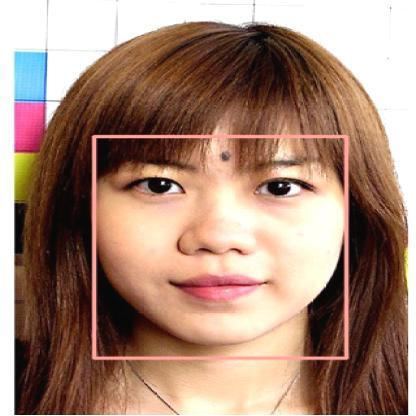without_mask: (94, 136, 346, 358)
